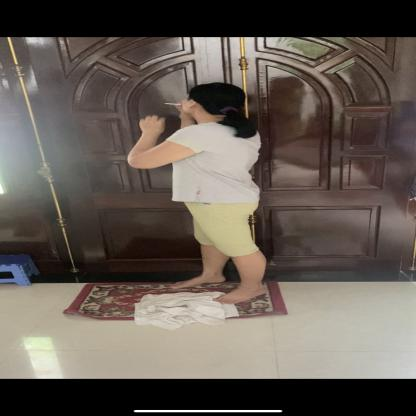cigarette: (164, 102, 182, 106)
person: (129, 83, 267, 301)
